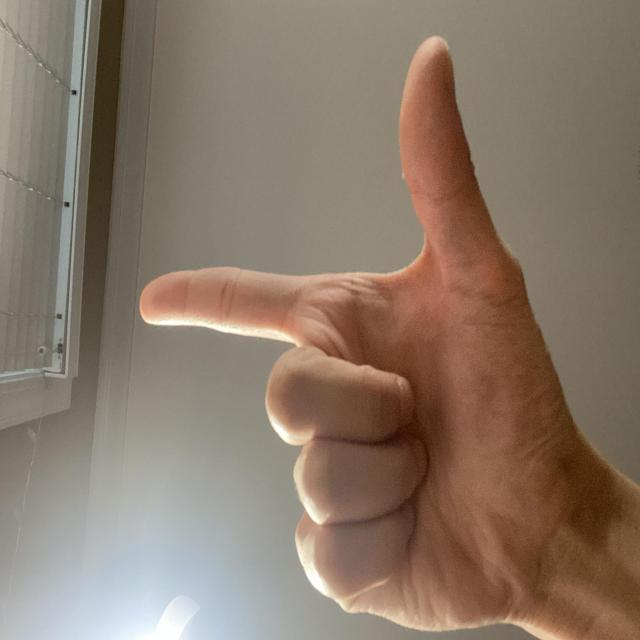L: (0, 182, 467, 640)
